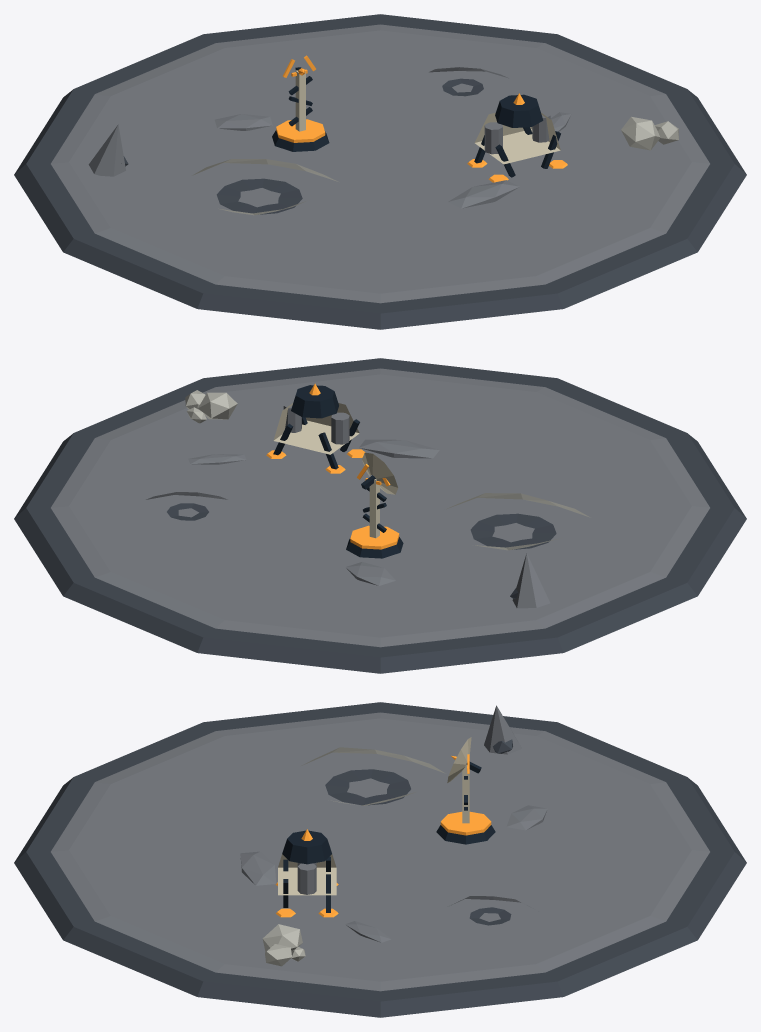
Rendered from moon-shared-kit-v1-ChKmrRAU.glb.
The picture shows the model from 3 angles, top to bottom: view 1: azimuth 30°, elevation 25°; view 2: azimuth 150°, elevation 25°; view 3: azimuth 270°, elevation 25°; orthographic projection.
Parts seen in each view (by area): view 1: MSK1_GroundInnerFacet, MSK1_GroundPatch, MSK1_DustBerms, MSK1_CraterLarge_Bowl, MSK1_Lander_Body, MSK1_RockCluster_Main, MSK1_Lander_Cabin, MSK1_RockShard_Main, MSK1_Lander_Tanks, MSK1_Relay_BaseBand, MSK1_CraterLarge_Rim, MSK1_Lander_Legs (+2 smaller); view 2: MSK1_GroundInnerFacet, MSK1_GroundPatch, MSK1_DustBerms, MSK1_CraterLarge_Bowl, MSK1_Lander_Body, MSK1_RockCluster_Main, MSK1_Lander_Cabin, MSK1_RockShard_Main, MSK1_Lander_Tanks, MSK1_Relay_BaseBand, MSK1_CraterLarge_Rim, MSK1_Relay_Dish (+3 smaller); view 3: MSK1_GroundInnerFacet, MSK1_GroundPatch, MSK1_DustBerms, MSK1_CraterLarge_Bowl, MSK1_RockCluster_Main, MSK1_Lander_Body, MSK1_Lander_Cabin, MSK1_Relay_BaseBand, MSK1_RockShard_Main, MSK1_CraterLarge_Rim, MSK1_Lander_Tanks, MSK1_Relay_Base.
Part boxes in pixels (x1,y1,x2,y2): MSK1_GroundInnerFacet: [51, 24, 709, 303]; MSK1_GroundPatch: [14, 14, 746, 329]; MSK1_DustBerms: [214, 112, 571, 208]; MSK1_CraterLarge_Bowl: [216, 178, 302, 214]; MSK1_Lander_Body: [474, 112, 560, 164]; MSK1_RockCluster_Main: [621, 116, 678, 150]; MSK1_Lander_Cabin: [495, 94, 543, 127]; MSK1_RockShard_Main: [88, 124, 125, 176]; MSK1_Lander_Tanks: [484, 110, 550, 154]; MSK1_Relay_BaseBand: [276, 119, 325, 142]; MSK1_CraterLarge_Rim: [192, 159, 338, 215]; MSK1_Lander_Legs: [474, 127, 560, 177]; MSK1_GroundInnerFacet: [51, 368, 709, 647]; MSK1_GroundPatch: [14, 358, 746, 673]; MSK1_DustBerms: [188, 439, 439, 585]; MSK1_CraterLarge_Bowl: [470, 513, 556, 549]; MSK1_Lander_Body: [273, 403, 359, 454]; MSK1_RockCluster_Main: [185, 390, 237, 423]; MSK1_Lander_Cabin: [291, 385, 338, 418]; MSK1_RockShard_Main: [512, 553, 549, 608]; MSK1_Lander_Tanks: [283, 401, 349, 444]; MSK1_Relay_BaseBand: [350, 525, 399, 549]; MSK1_CraterLarge_Rim: [446, 493, 590, 550]; MSK1_Relay_Dish: [362, 452, 397, 494]; MSK1_GroundInnerFacet: [51, 712, 709, 991]; MSK1_GroundPatch: [14, 702, 746, 1017]; MSK1_DustBerms: [240, 805, 547, 942]; MSK1_CraterLarge_Bowl: [325, 769, 410, 805]; MSK1_RockCluster_Main: [262, 924, 305, 966]; MSK1_Lander_Body: [278, 844, 336, 895]; MSK1_Lander_Cabin: [282, 830, 331, 864]; MSK1_Relay_BaseBand: [440, 811, 491, 835]; MSK1_RockShard_Main: [484, 705, 521, 754]; MSK1_CraterLarge_Rim: [301, 747, 445, 805]; MSK1_Lander_Tanks: [297, 862, 316, 894]; MSK1_Relay_Base: [436, 825, 495, 844].
Bounding box in the file's own units: 60 × 9.58 × 60.
